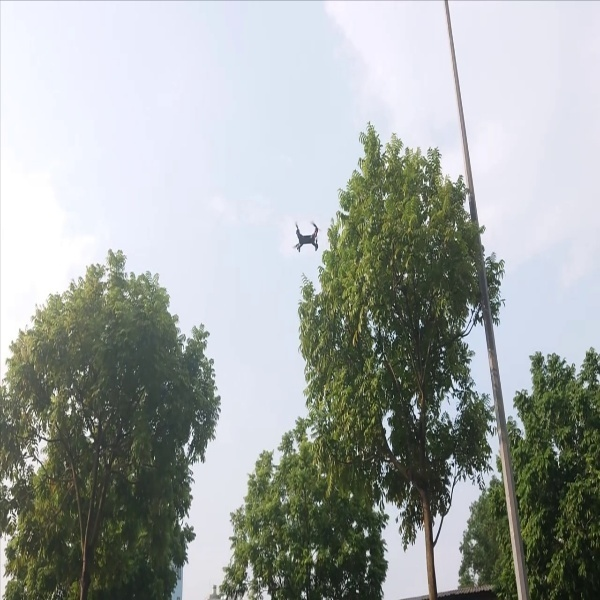drone: (287, 214, 323, 252)
